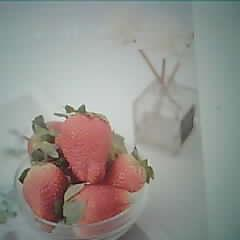straw-ripe: (58, 113, 111, 180), (25, 164, 65, 222)
